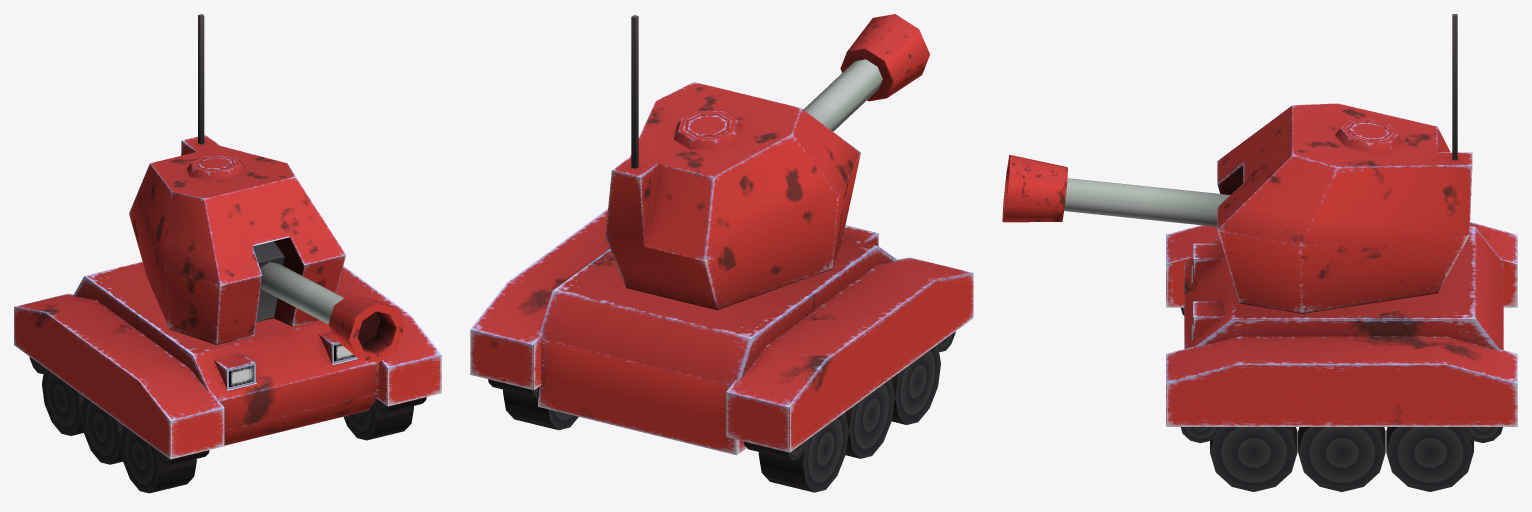
Rendered from mini_tank 23.03.27.obj.
3 views of the same model, side by side, from view 1: azimuth 30°, elevation 25°; view 2: azimuth 150°, elevation 25°; view 3: azimuth 270°, elevation 25° (orthographic). The views are drawn at different scales.
Parts seen in each view (by area): view 1: Body_Cube.003, Head_Cube.001, Cannon_Cube.005; view 2: Body_Cube.003, Head_Cube.001, Cannon_Cube.005; view 3: Body_Cube.003, Head_Cube.001, Cannon_Cube.005.
Part boxes in pixels (<box>): Body_Cube.003: <box>14,262,441,493</box>; Head_Cube.001: <box>129,14,345,344</box>; Cannon_Cube.005: <box>260,262,404,362</box>; Body_Cube.003: <box>470,209,973,492</box>; Head_Cube.001: <box>605,15,860,310</box>; Cannon_Cube.005: <box>803,14,929,131</box>; Body_Cube.003: <box>1166,222,1517,491</box>; Head_Cube.001: <box>1217,14,1472,313</box>; Cannon_Cube.005: <box>1002,154,1229,226</box>.
Bounding box in the file's own units: 2 × 2.65 × 2.92.
Materials: 2 (2 with a texture image).
